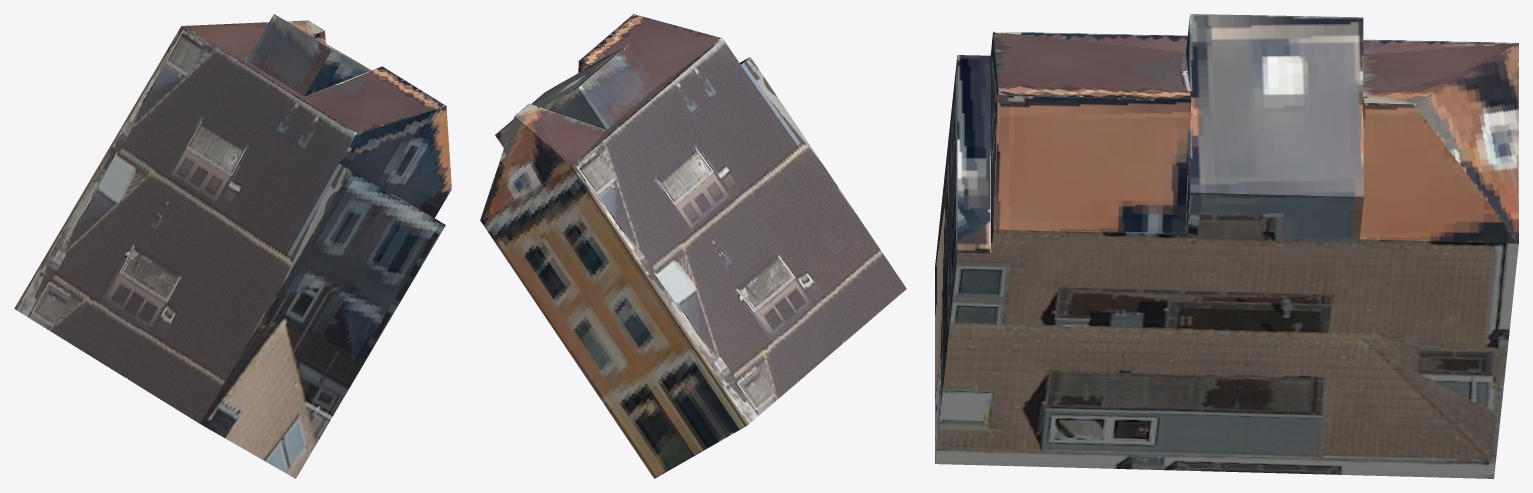
3 renders of one model, left to right at view 1: azimuth 30°, elevation 25°; view 2: azimuth 150°, elevation 25°; view 3: azimuth 270°, elevation 25°, orthographic. The views are drawn at different scales.
Parts seen in each view (by area): view 1: BAG_0599100000688717 (×5); view 2: BAG_0599100000688717 (×6); view 3: BAG_0599100000688717 (×5).
Part boxes in pixels (x1=…): BAG_0599100000688717 (×5): x1=14, y1=14, x2=451, y2=478; BAG_0599100000688717 (×6): x1=480, y1=14, x2=906, y2=478; BAG_0599100000688717 (×5): x1=935, y1=14, x2=1518, y2=478.
Size of the model in its own units: 12 by 13.2 by 12.46.
7 materials, 7 textured.
